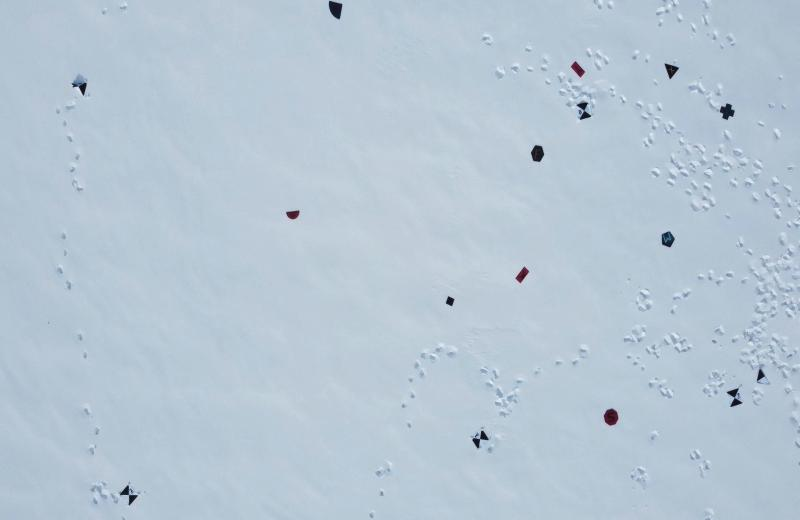Cross: (720, 102, 736, 121)
Hexagon: (530, 144, 546, 162)
Octagon: (602, 407, 620, 428)
Pentagon: (660, 230, 675, 248)
Quarter Circle: (327, 0, 345, 21)
Rectangle: (570, 61, 585, 79), (515, 266, 529, 284)
Semi Circle: (286, 208, 301, 222)
Square: (444, 295, 456, 308)
Triangle: (664, 62, 680, 82)
